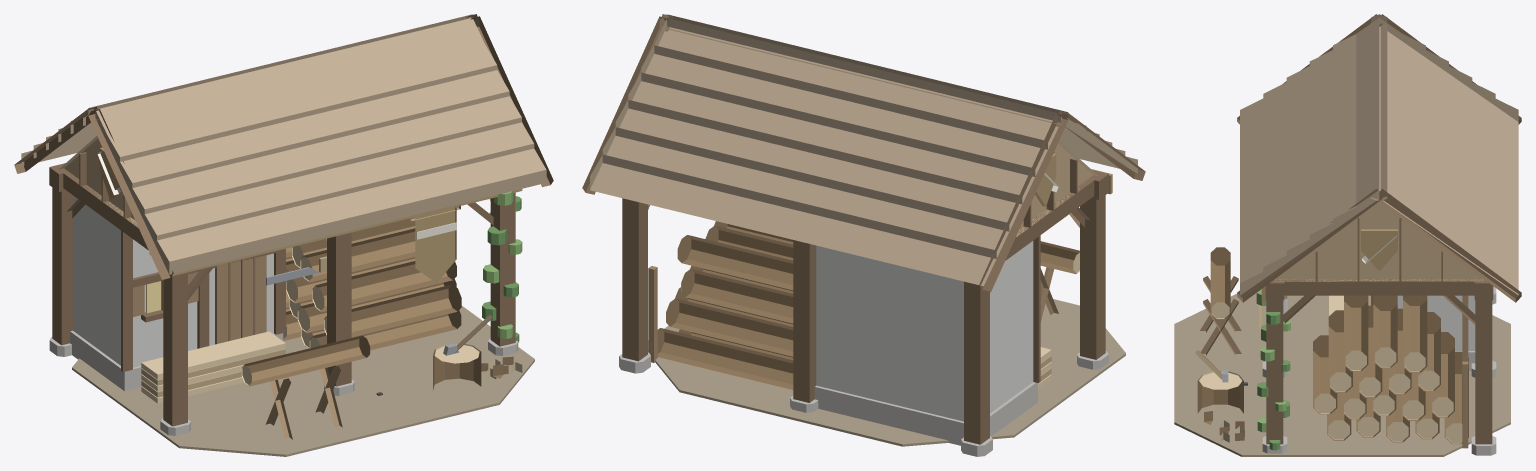
The model's file is lumber_camp.glb.
3 views of the same model, side by side, from view 1: azimuth 30°, elevation 25°; view 2: azimuth 150°, elevation 25°; view 3: azimuth 270°, elevation 25° (orthographic). The views are drawn at different scales.
Visible parts, largest first — view 1: Ground, Roof, Roof#2, Roof#5, Roof#3, Roof#4, Roof#6, Room, Room.Door, Post, Post#2, Log#10 (+25 smaller); view 2: Room, Roof#7, Roof#8, Roof#9, Roof#10, Roof#11, Ground, Roof#12, Room.Plinth, Log, Post#6, Post (+17 smaller); view 3: Ground, Gable#2, Roof#4, Roof, Roof#2, Roof#3, Roof#5, Roof#7, Roof#6, Roof#8, Roof#9, Roof#11 (+50 smaller).
Part boxes in pixels (bbox=[...]): Ground: bbox=[72, 306, 534, 456]; Roof: bbox=[157, 148, 546, 274]; Roof#2: bbox=[144, 122, 534, 247]; Roof#5: bbox=[107, 44, 497, 169]; Roof#3: bbox=[132, 96, 521, 221]; Roof#4: bbox=[120, 70, 509, 195]; Roof#6: bbox=[95, 17, 484, 143]; Room: bbox=[73, 195, 273, 367]; Room.Door: bbox=[215, 255, 266, 344]; Post: bbox=[163, 272, 187, 426]; Post#2: bbox=[52, 163, 72, 345]; Log#10: bbox=[324, 284, 461, 337]; Room: bbox=[816, 241, 1033, 421]; Roof#7: bbox=[590, 154, 996, 286]; Roof#8: bbox=[602, 127, 1009, 258]; Roof#9: bbox=[615, 100, 1022, 231]; Roof#10: bbox=[628, 72, 1035, 203]; Roof#11: bbox=[641, 45, 1047, 175]; Ground: bbox=[648, 299, 1125, 446]; Roof#12: bbox=[654, 19, 1058, 149]; Room.Plinth: bbox=[814, 382, 1037, 445]; Log: bbox=[651, 328, 793, 389]; Post#6: bbox=[622, 198, 647, 361]; Post: bbox=[1080, 170, 1105, 359]; Ground: bbox=[1174, 293, 1510, 456]; Gable#2: bbox=[1275, 201, 1483, 281]; Roof#4: bbox=[1309, 50, 1332, 246]; Roof: bbox=[1240, 98, 1263, 295]; Roof#2: bbox=[1263, 82, 1286, 278]; Roof#3: bbox=[1286, 66, 1309, 262]; Roof#5: bbox=[1333, 34, 1356, 230]; Roof#7: bbox=[1495, 99, 1518, 295]; Roof#6: bbox=[1356, 18, 1379, 214]; Roof#8: bbox=[1472, 82, 1495, 279]; Roof#9: bbox=[1449, 66, 1472, 262]; Roof#11: bbox=[1402, 34, 1425, 230].
Size of the model in its own units: 5.46 by 3.91 by 4.49.
